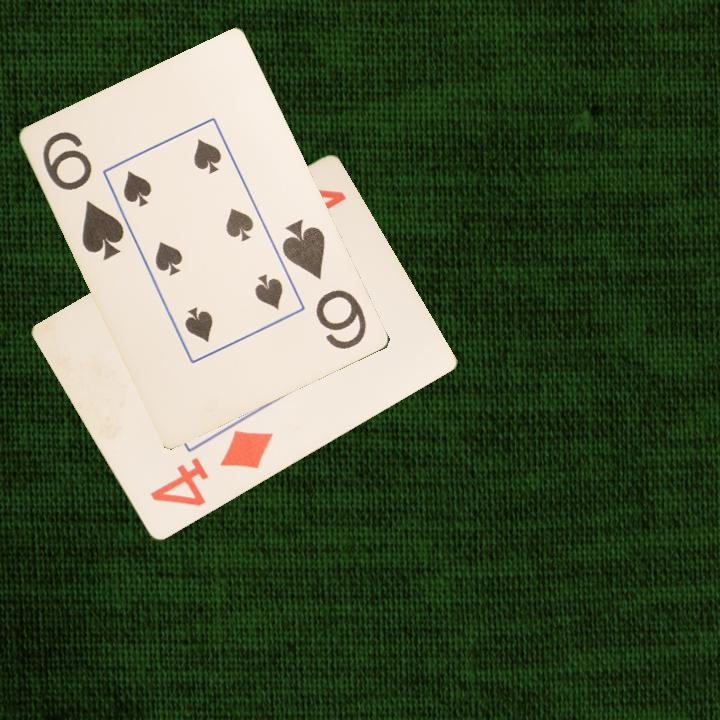4d: (146, 427, 276, 510)
6s: (279, 215, 370, 353), (39, 128, 128, 264)
